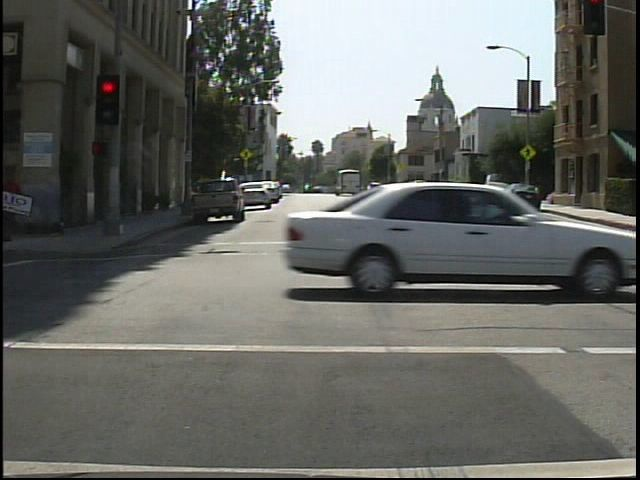person: (5, 156, 27, 242)
